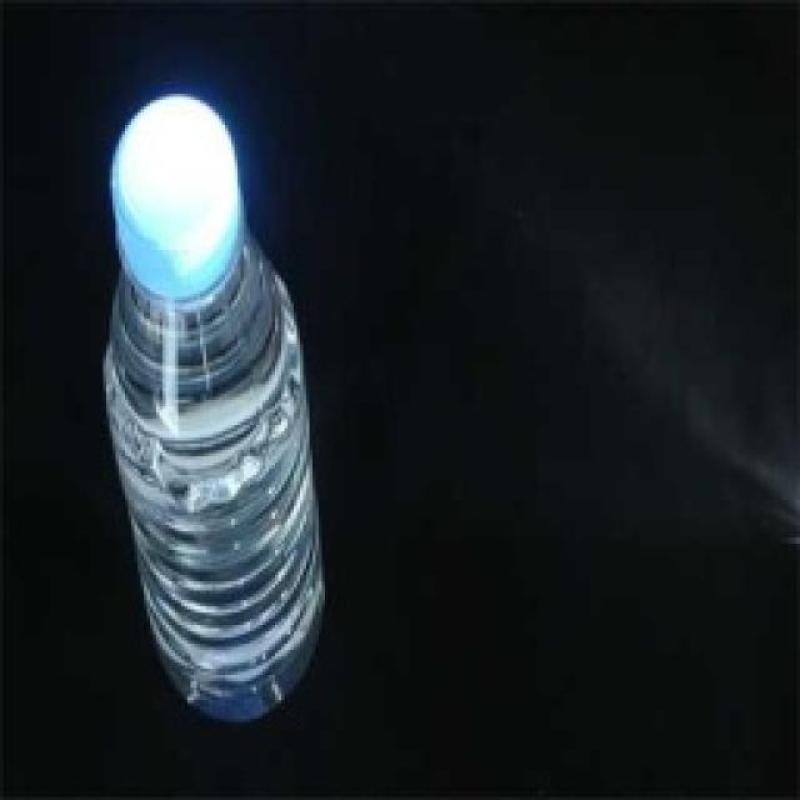botella: (108, 96, 332, 719)
